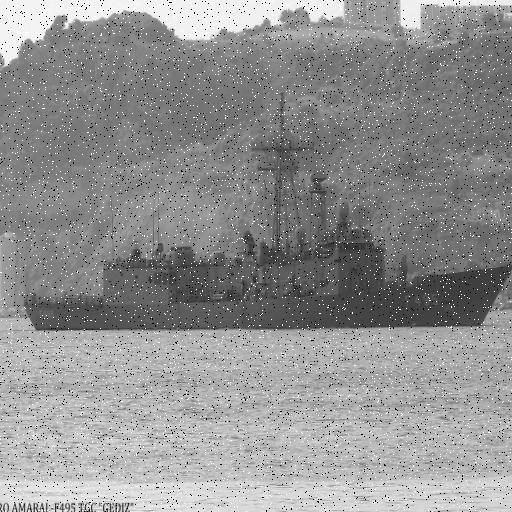Fragata: (23, 94, 512, 334)
